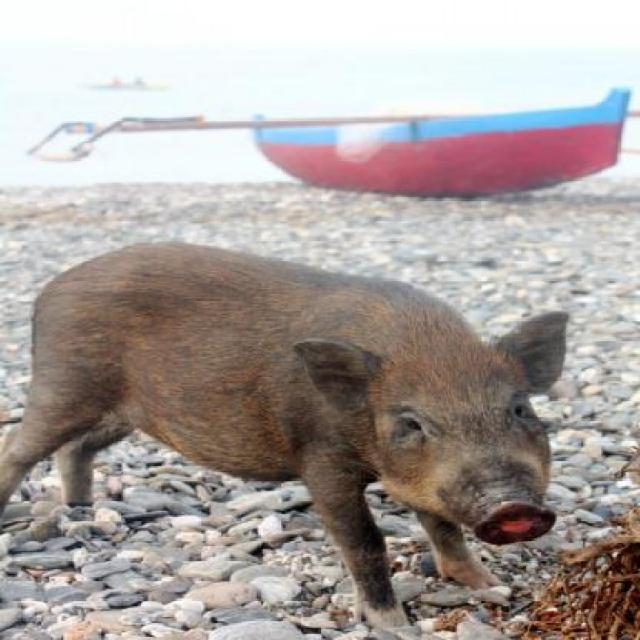pig: (0, 238, 572, 628)
